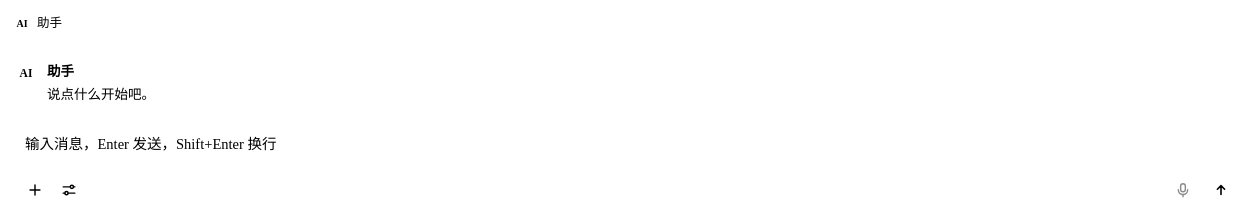
Test: 菜单 › 带 run 的命令选中即执行：输入框清空、不发送；不带 run 的照旧插入
Type "/pro" into the text box with test id "conv-input" at [631, 149], box [25, 130, 1237, 168]
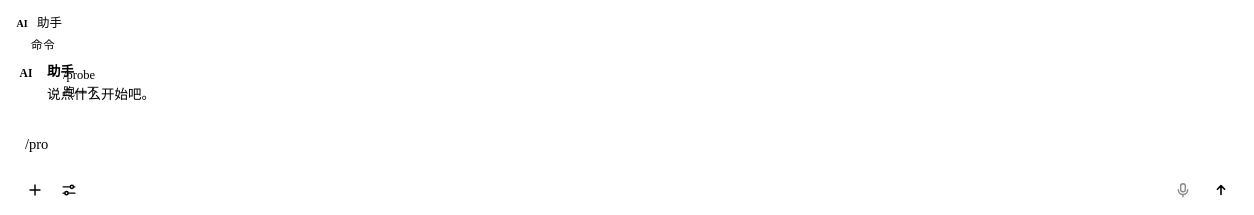
Press Enter in the text box with test id "conv-input", box [25, 130, 1237, 168]
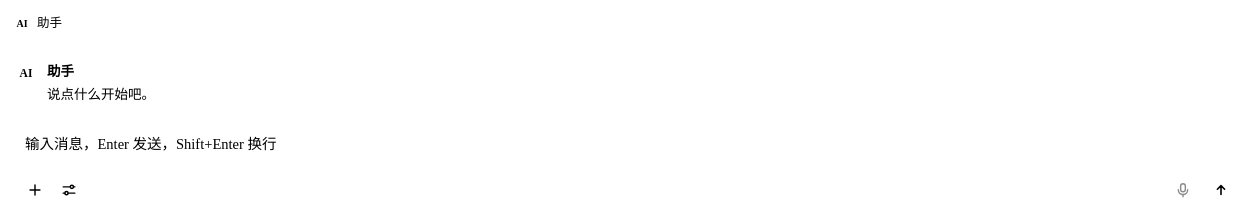
Result: the text box with test id "conv-input" is empty
Type "/pl" into the text box with test id "conv-input" at [631, 149], box [25, 130, 1237, 168]
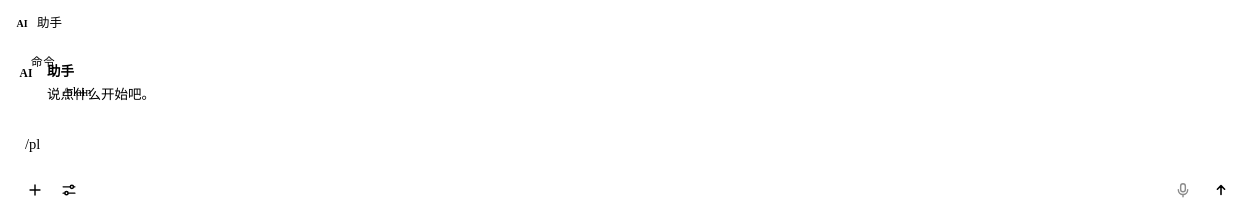
Press Enter in the text box with test id "conv-input", box [25, 130, 1237, 168]
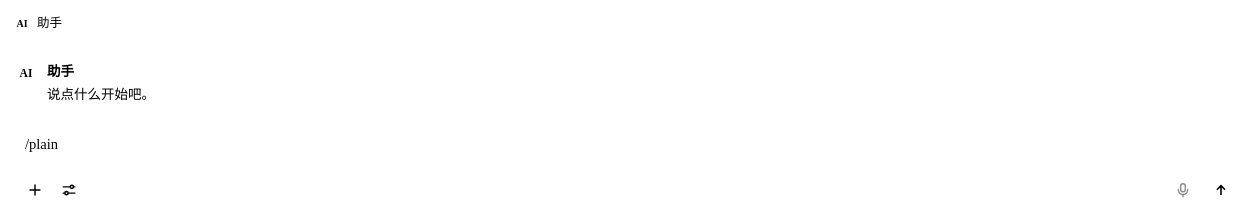
Result: the text box with test id "conv-input" holds "/plain " at [25, 130, 1237, 168]
